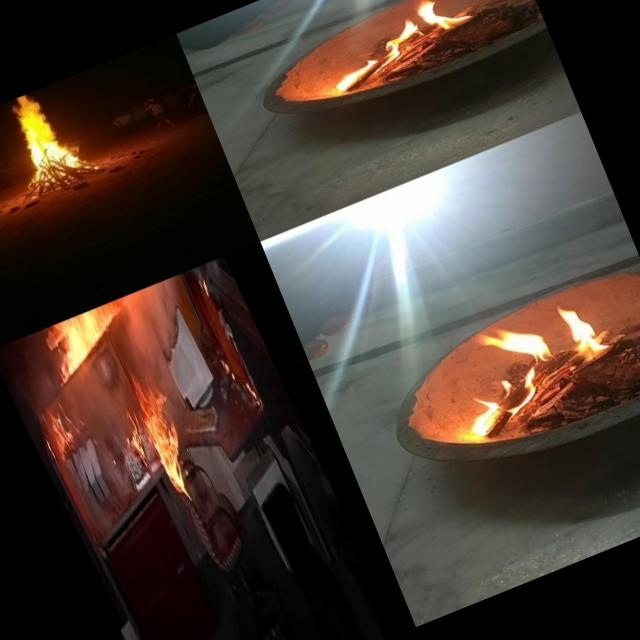fire: (431, 308, 573, 447), (312, 0, 476, 96), (0, 82, 85, 183), (124, 376, 194, 492), (547, 286, 630, 371), (41, 306, 126, 386), (36, 390, 81, 458)
smoke: (117, 281, 210, 420)
